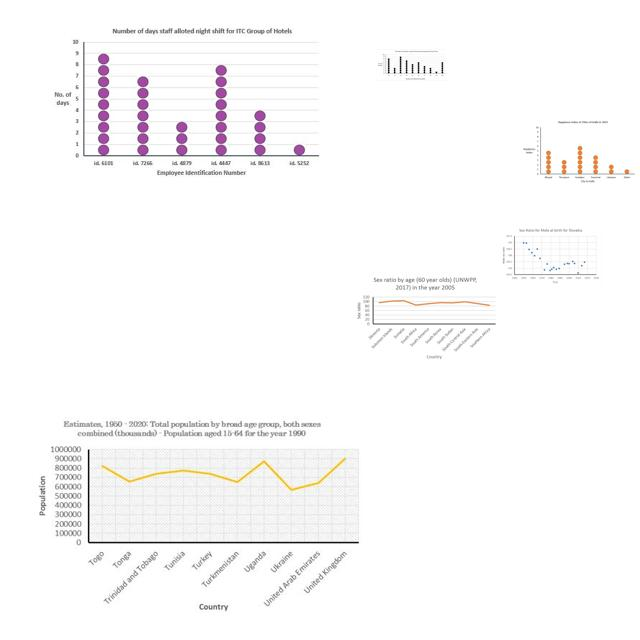Graph: (28, 411, 366, 614), (45, 24, 325, 182), (352, 273, 499, 362), (520, 119, 636, 186), (499, 226, 602, 287), (377, 49, 446, 81)
